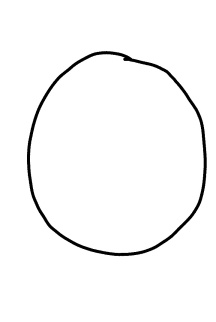Circle: (24, 47, 208, 261)
